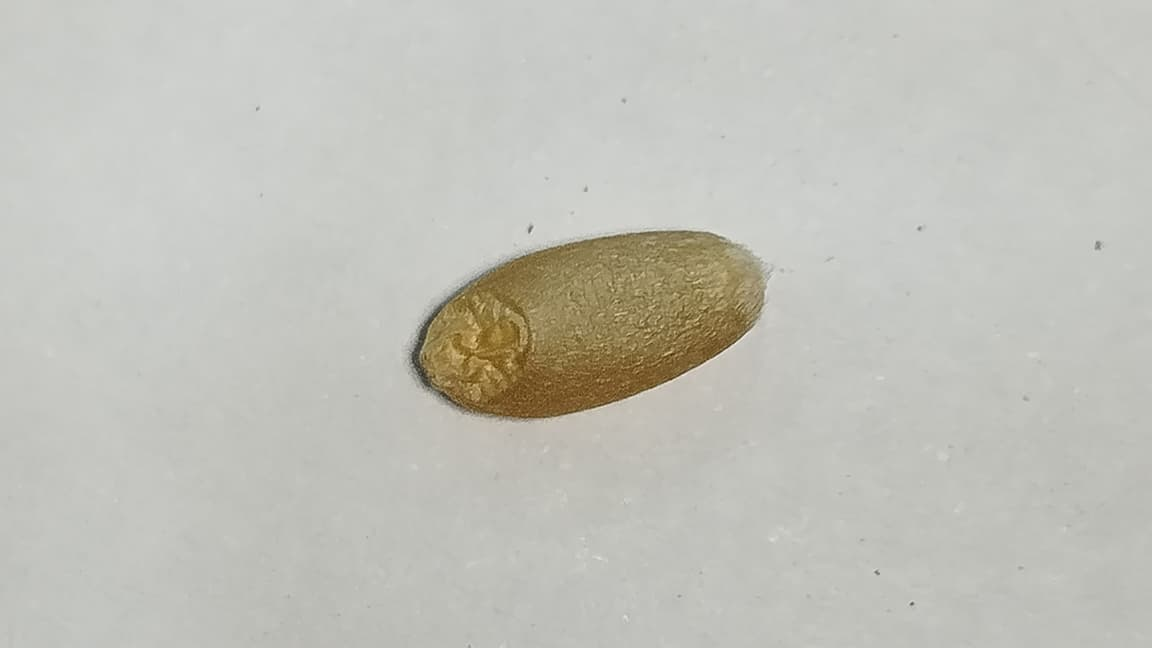healthy: (419, 232, 770, 417)
